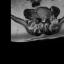CCS_stenosis: (42, 17, 44, 23)
LFS_severe_stenosis: (45, 15, 47, 20)
LLS_normal: (44, 17, 45, 22)
RFS_severe_stenosis: (39, 14, 40, 20)
RLS_normal: (40, 17, 42, 22)
